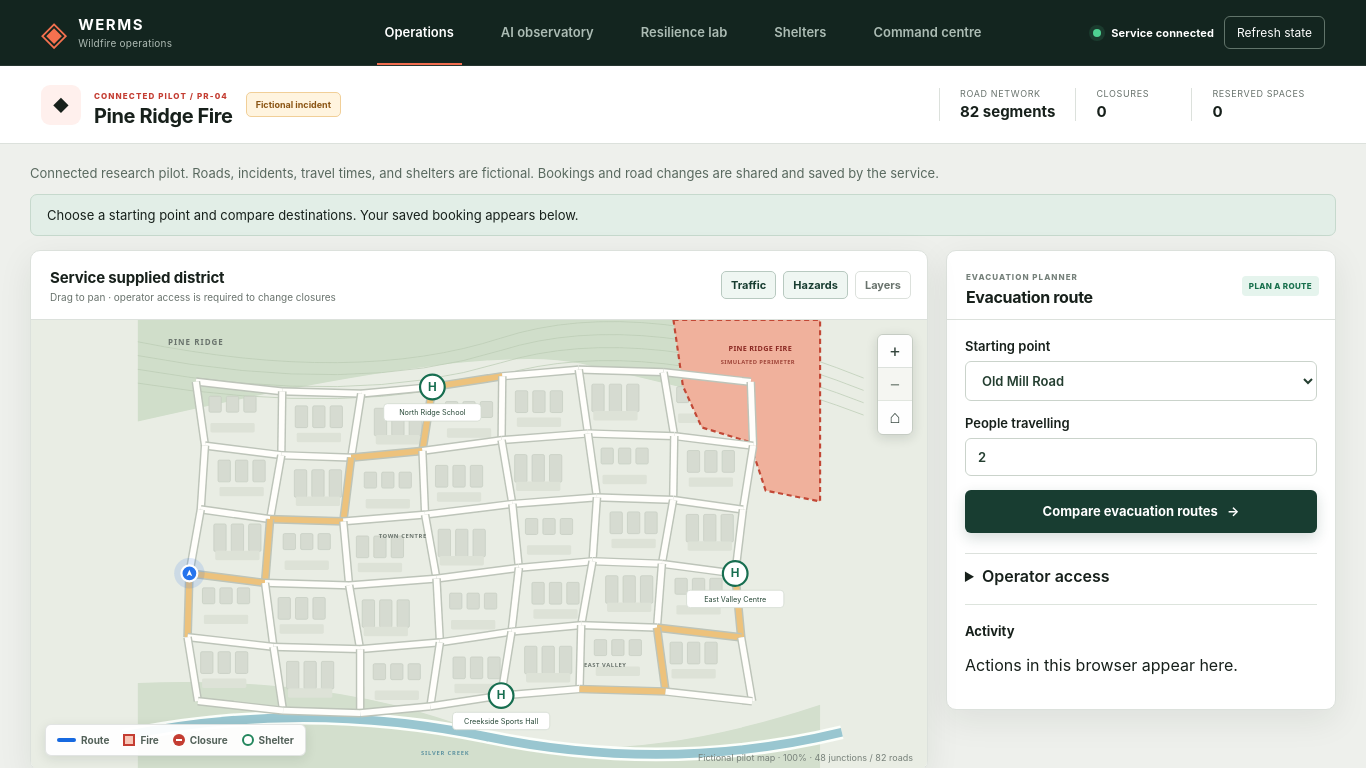
Test: expired preview cannot be confirmed or animated
Check: the heading "Service supplied district" is shown, box [50,268,224,286]
Click the button "Compare evacuation routes →" at (1141, 511), box [965,490,1317,532]
(page scrolled)
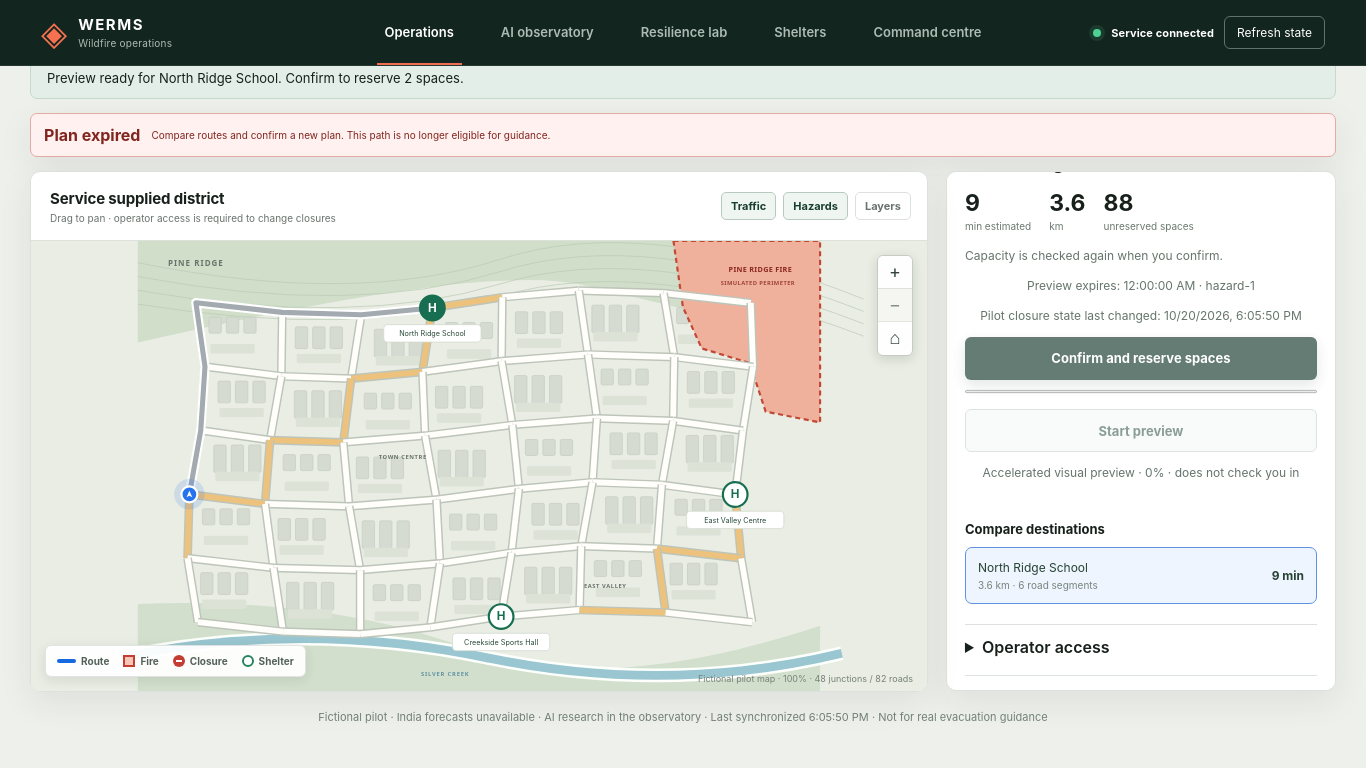
Check: the button "Confirm and reserve spaces" is disabled, box [965,336,1317,380]
Check: the message that starts with "Plan expired" is shown, box [44,124,140,144]
Check: the button "Start preview" is disabled, box [965,409,1317,452]
